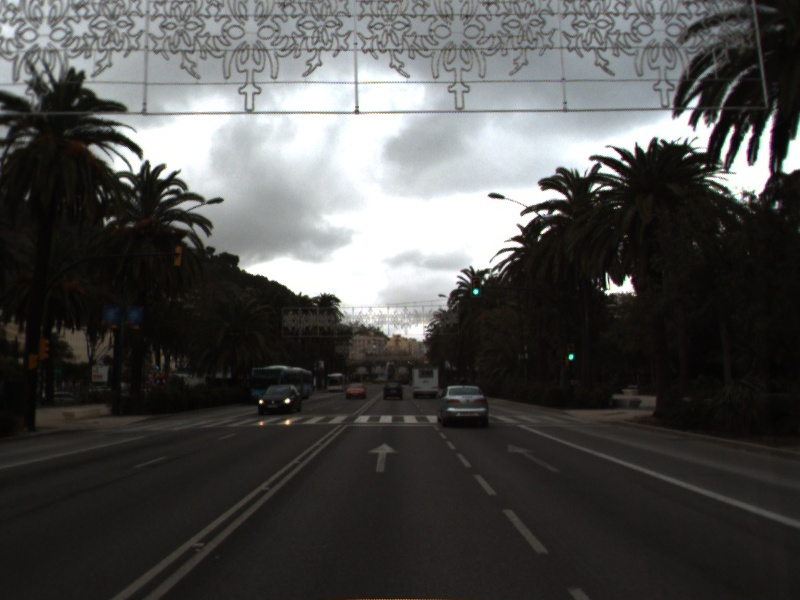STRAIGHT: (505, 441, 562, 475), (366, 441, 401, 474)
